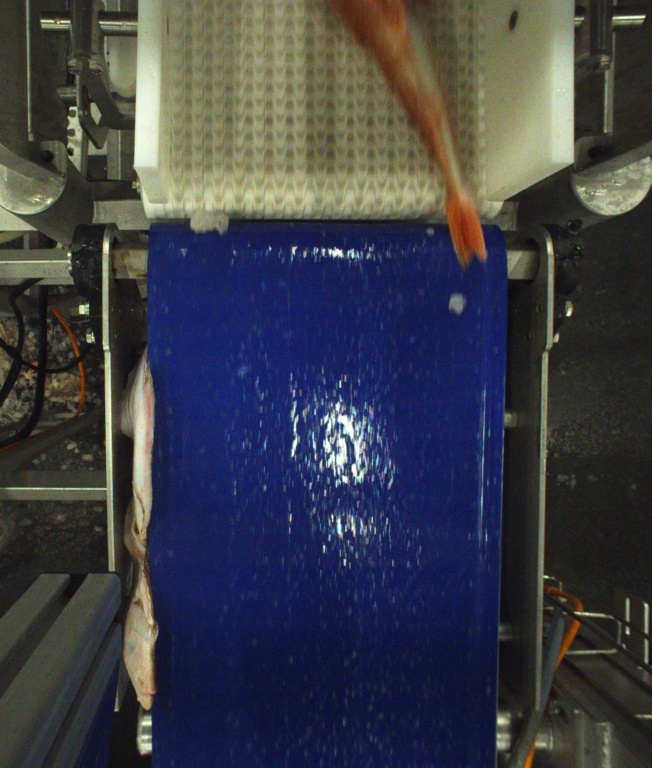GUU: (325, 0, 488, 265)
